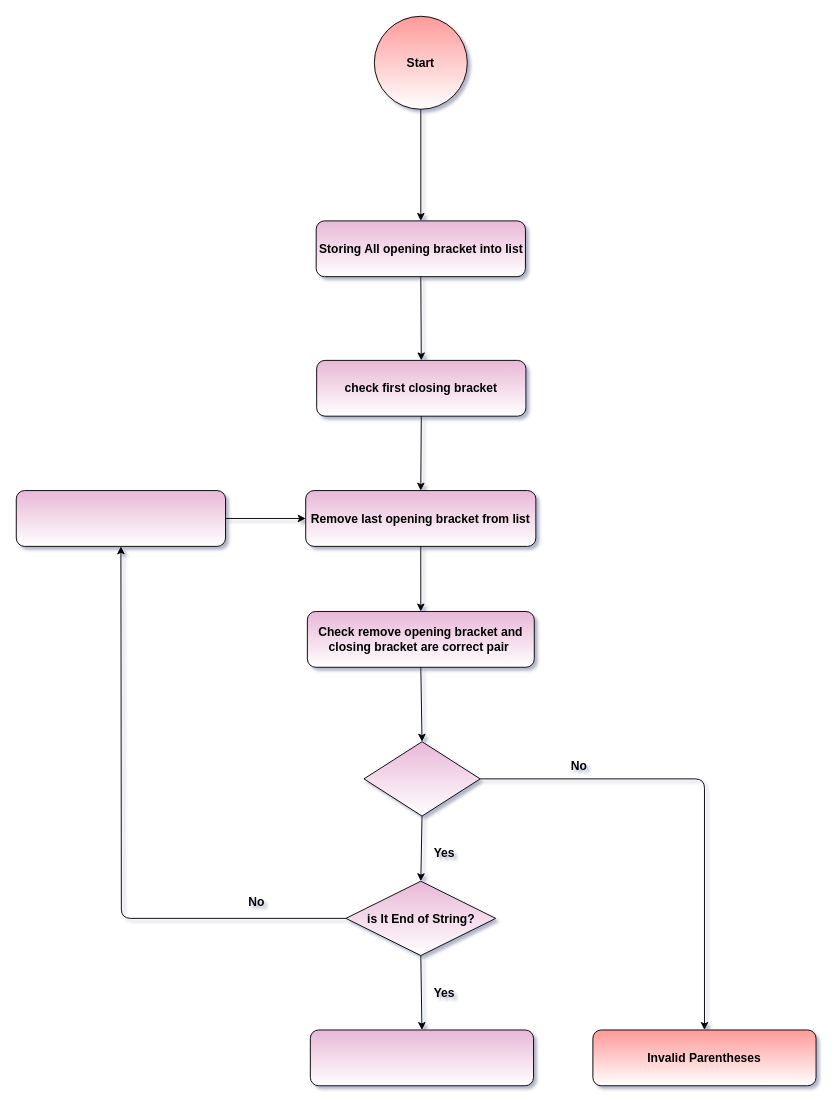
Image size: 838x1108. Some labels were removed from this diagram. Here are the shapes that lost their labels. From the top down, the centre of each, then its label:
pixel 120 518: Check Next Closing bracket
pixel 421 778: Correct?
pixel 421 1057: Valid Parentheses
